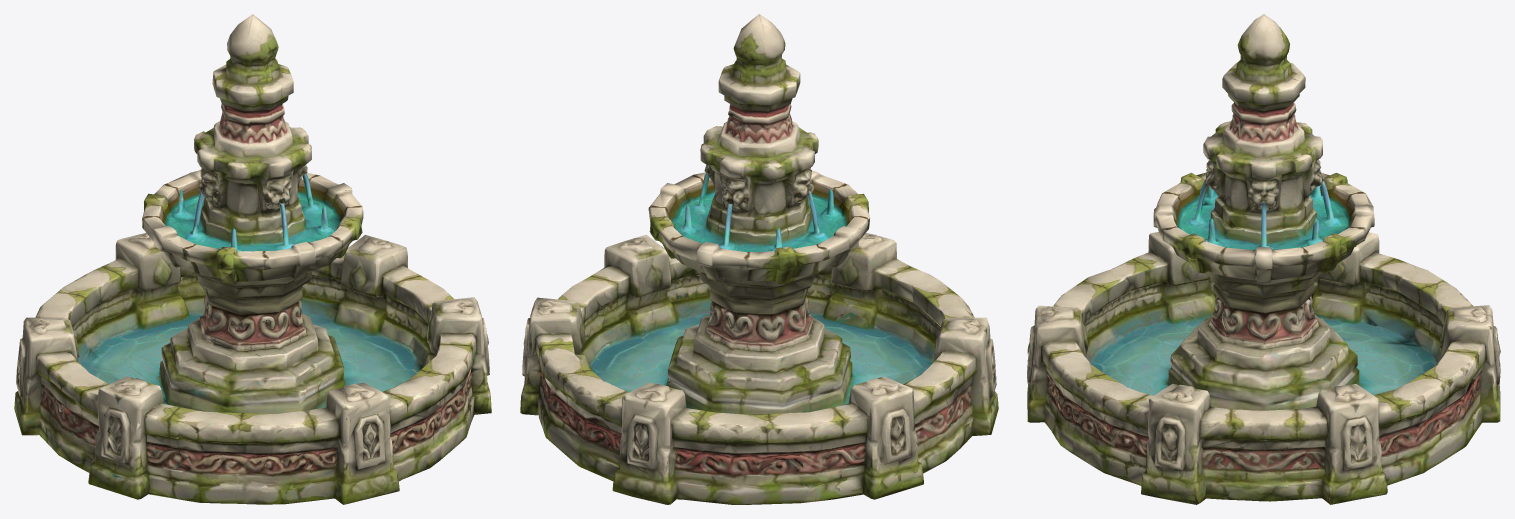
The model's file is the-fountain.glb.
3 views of the same model, side by side, from view 1: azimuth 30°, elevation 25°; view 2: azimuth 150°, elevation 25°; view 3: azimuth 270°, elevation 25° (orthographic).
Bounding box in the file's own units: 1.83 × 1.76 × 1.91.
Materials: 1 (1 with a texture image).
